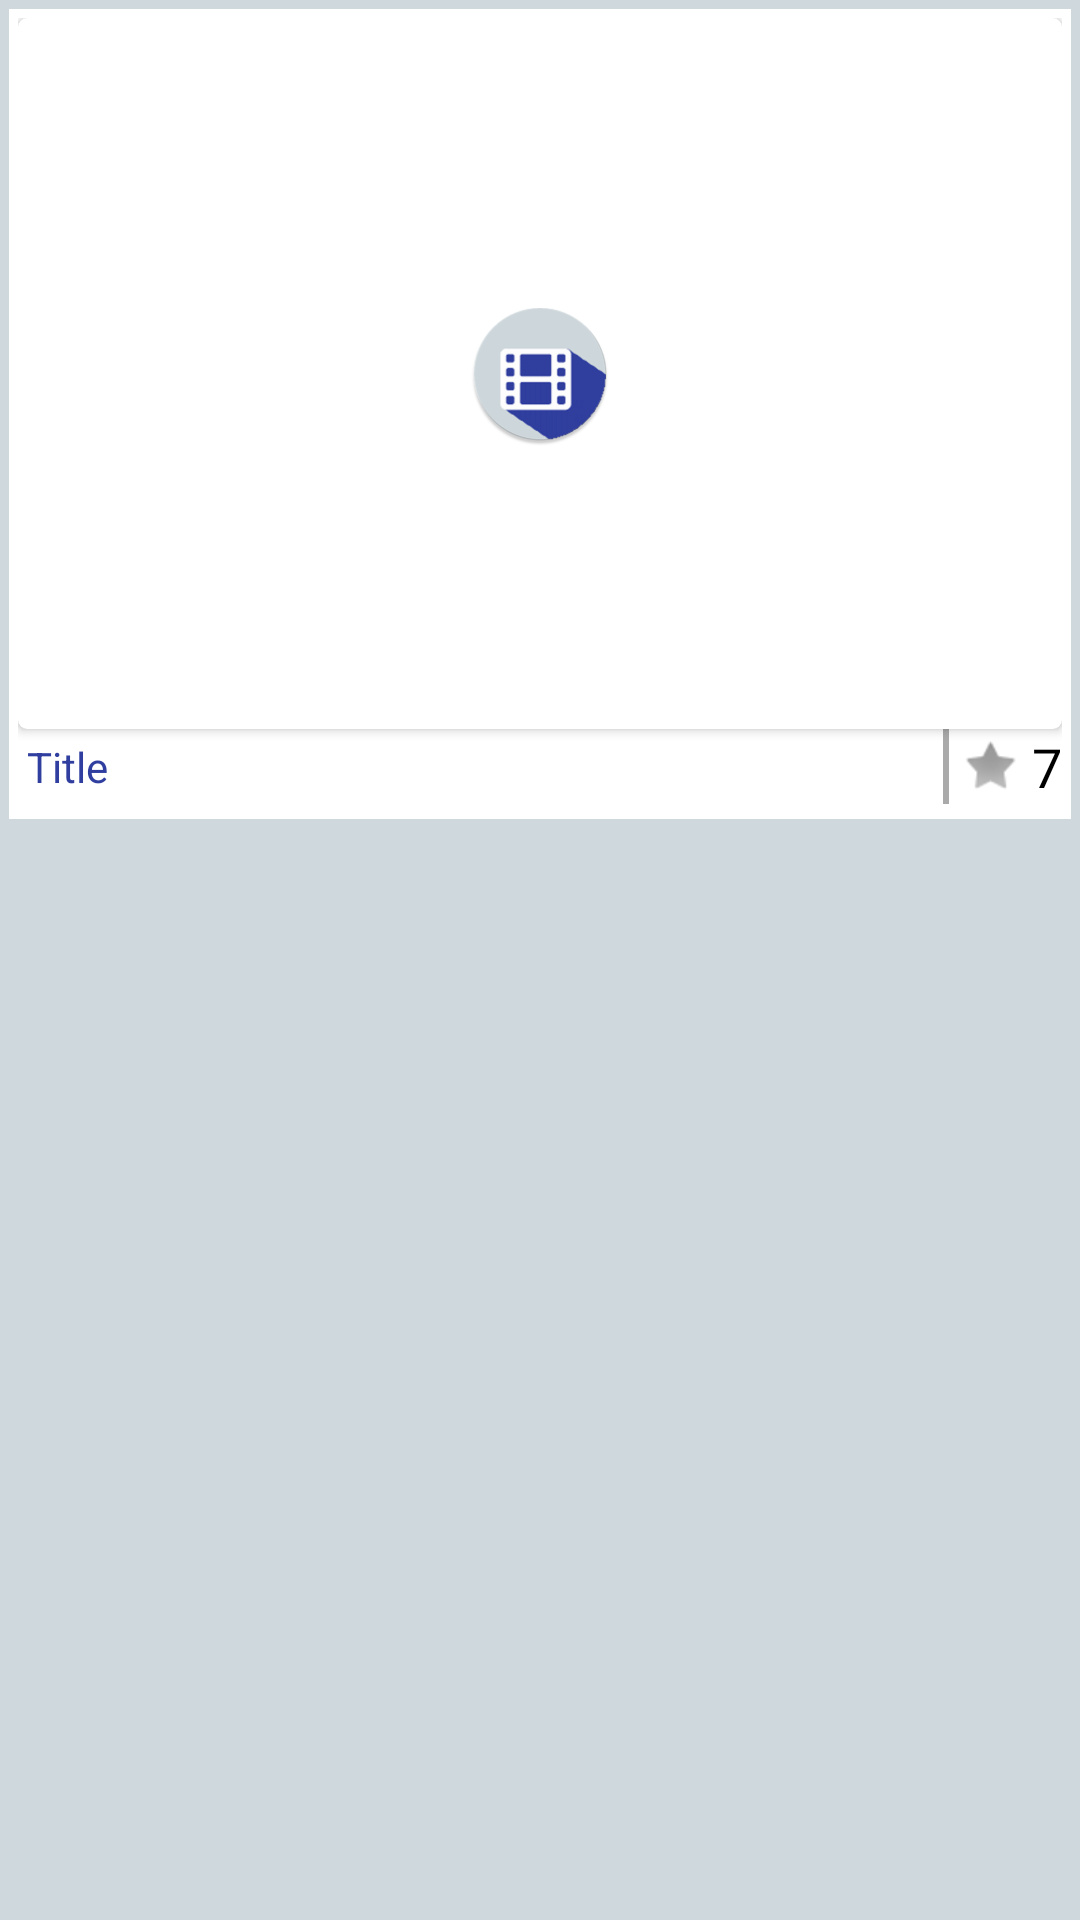

Locate icon controls on the screen. Image size 1080 × 1920, boxes as (x1, y1, x2, y2).
star off: (967, 742, 1015, 788)
